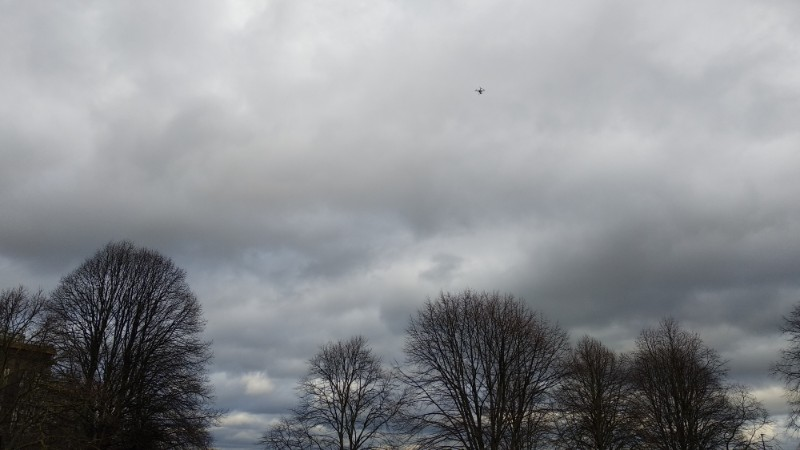drone: (475, 86, 485, 95)
